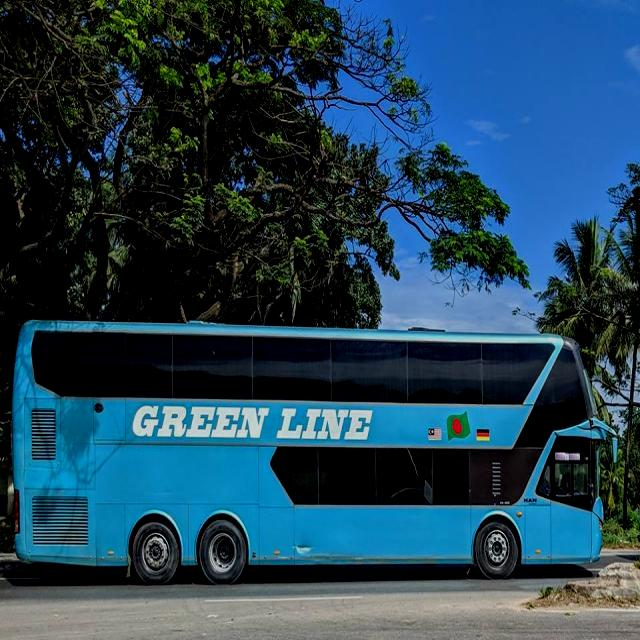bus: (11, 316, 621, 589)
